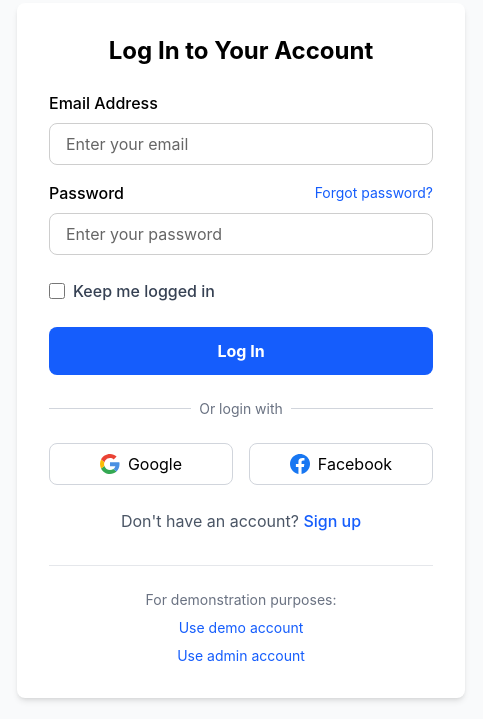
Login Page › allows auto-fill of demo credentials
This screenshot has width=483, height=719.
// Click "Use demo account" button
Step 1. Click the button "Use demo account" → (241,628), box [49,618,433,638]
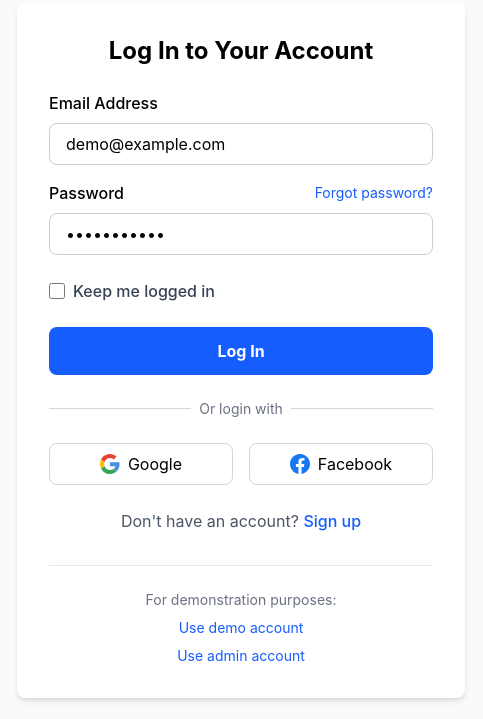
Expected: the field labelled "Email Address" holds "demo@example.com", [49,122,433,164]
Expected: the password field labelled "Password" holds "password123", [49,212,433,254]
